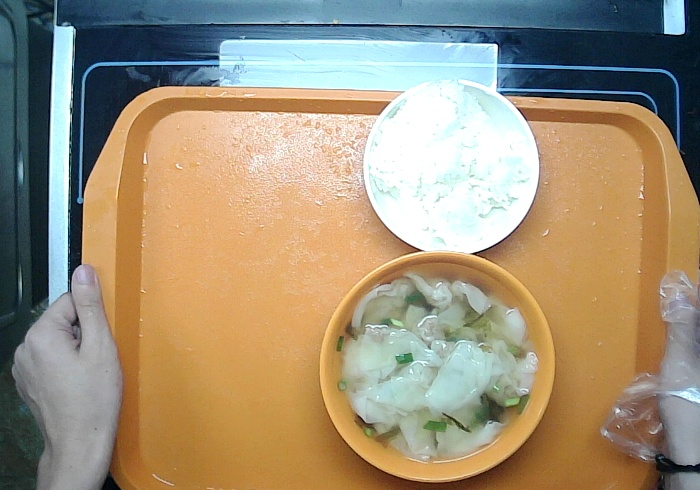NLDX-Fan_Wan: (360, 75, 544, 254)
NLDX-Hun_Tun_Wan: (315, 247, 558, 486)
